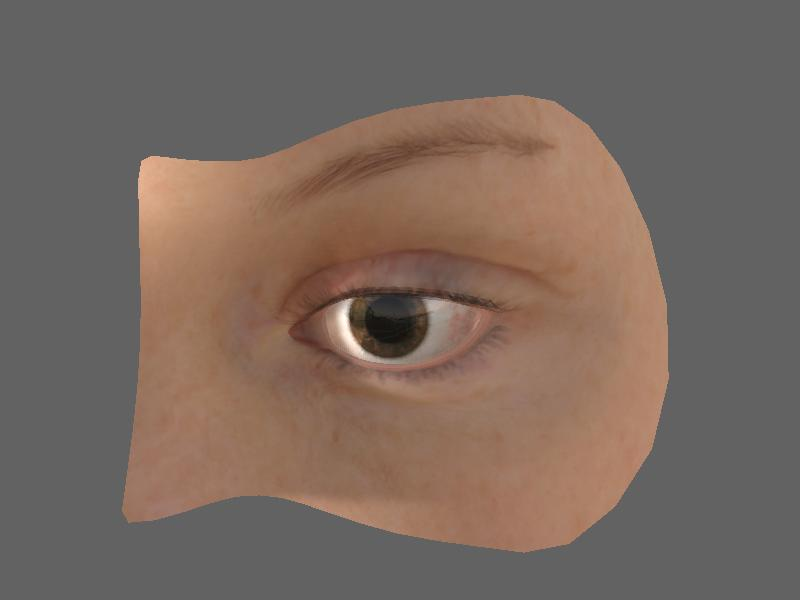iris: (353, 286, 438, 363)
